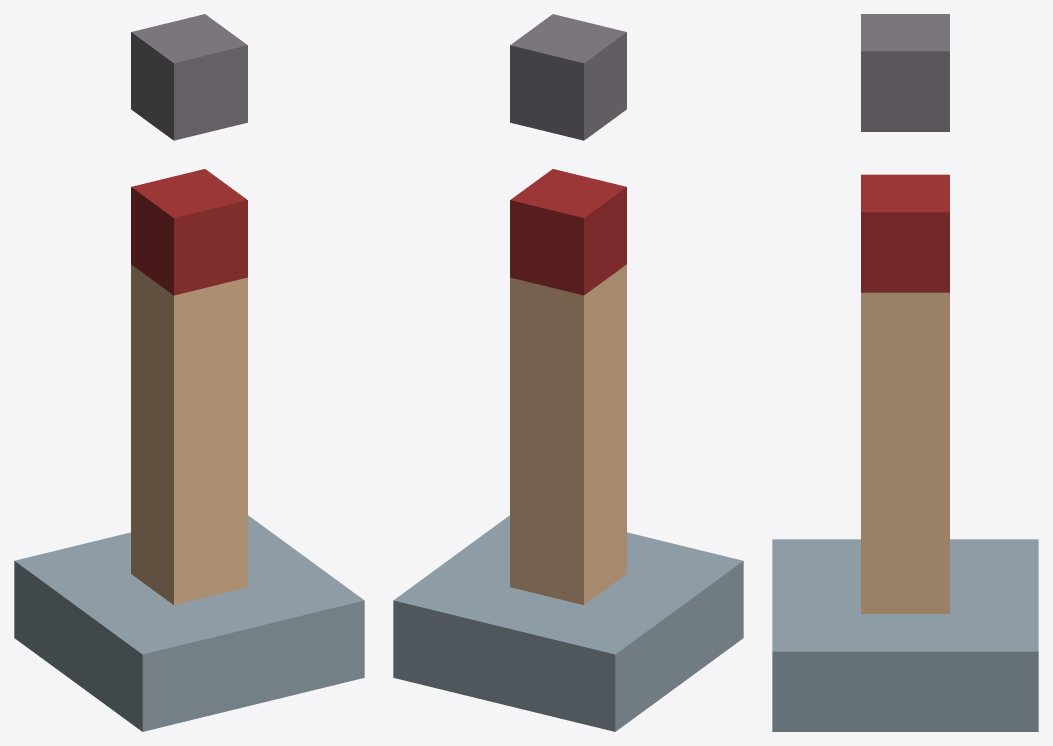
Rendered from Candle2.obj.
3 views of the same model, side by side, from view 1: azimuth 30°, elevation 25°; view 2: azimuth 150°, elevation 25°; view 3: azimuth 270°, elevation 25° (orthographic). The views are drawn at different scales.
Size of the model in its own units: 3 by 8 by 3.
Materials: 1 (1 with a texture image).
